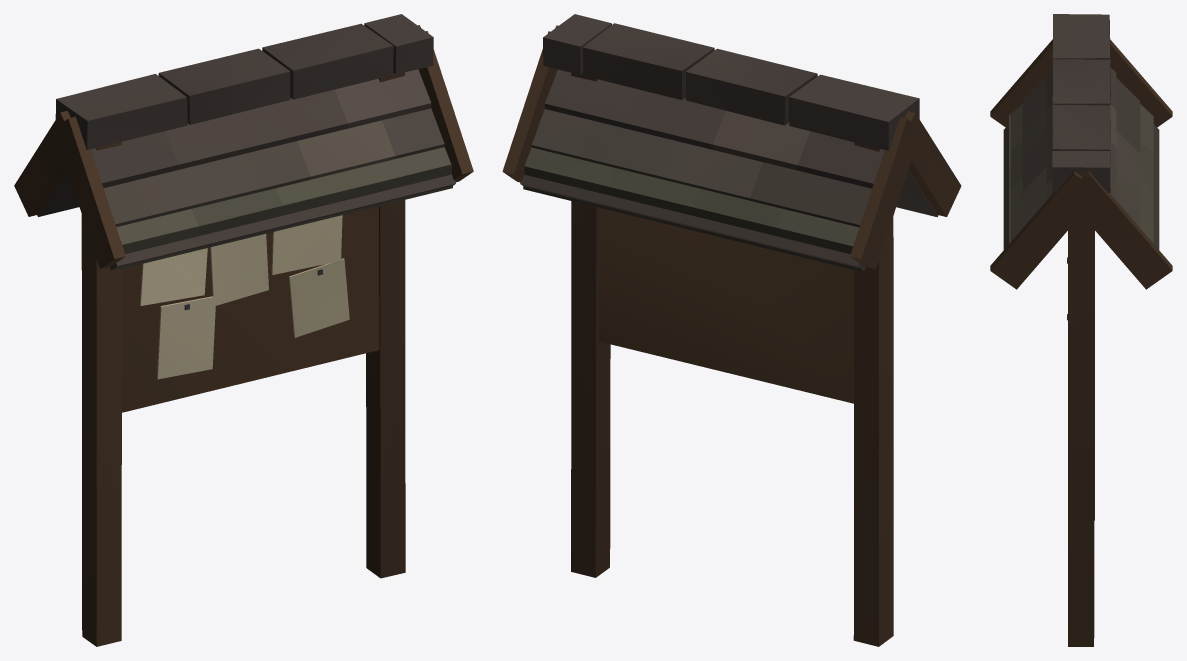
File: ph_prop_v_board.glb
3 views of the same model, side by side, from view 1: azimuth 30°, elevation 25°; view 2: azimuth 150°, elevation 25°; view 3: azimuth 270°, elevation 25° (orthographic). The views are drawn at different scales.
Parts seen in each view (by area): view 1: ph_prop_v_board; view 2: ph_prop_v_board; view 3: ph_prop_v_board.
Part boxes in pixels (box(x1,y1,x2,y2)): ph_prop_v_board: box(14, 14, 473, 646); ph_prop_v_board: box(502, 14, 961, 646); ph_prop_v_board: box(990, 14, 1172, 646).
Size of the model in its own units: 1.57 by 2.25 by 0.7596.
